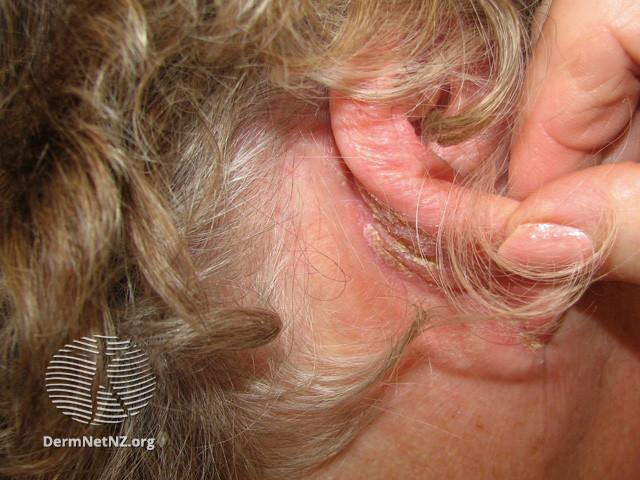Psoriasis: (228, 80, 574, 383)
